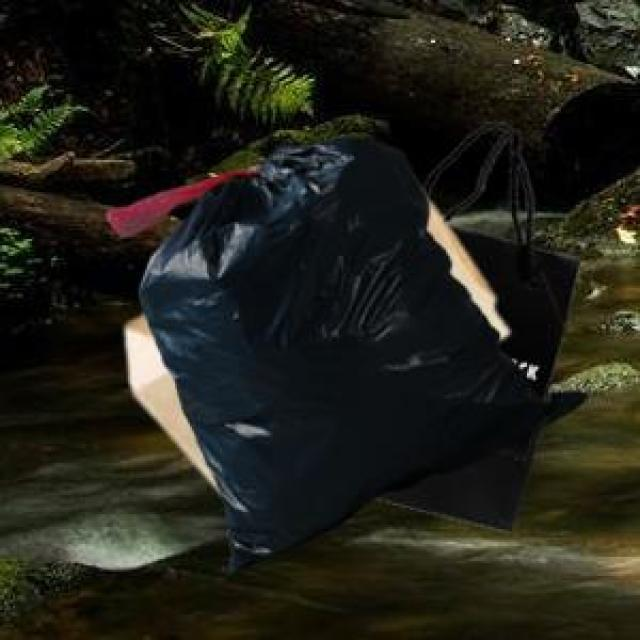miscellaneous trash: (102, 134, 582, 568)
paper: (262, 198, 504, 456), (420, 117, 576, 399), (122, 312, 251, 482), (371, 417, 534, 527)
